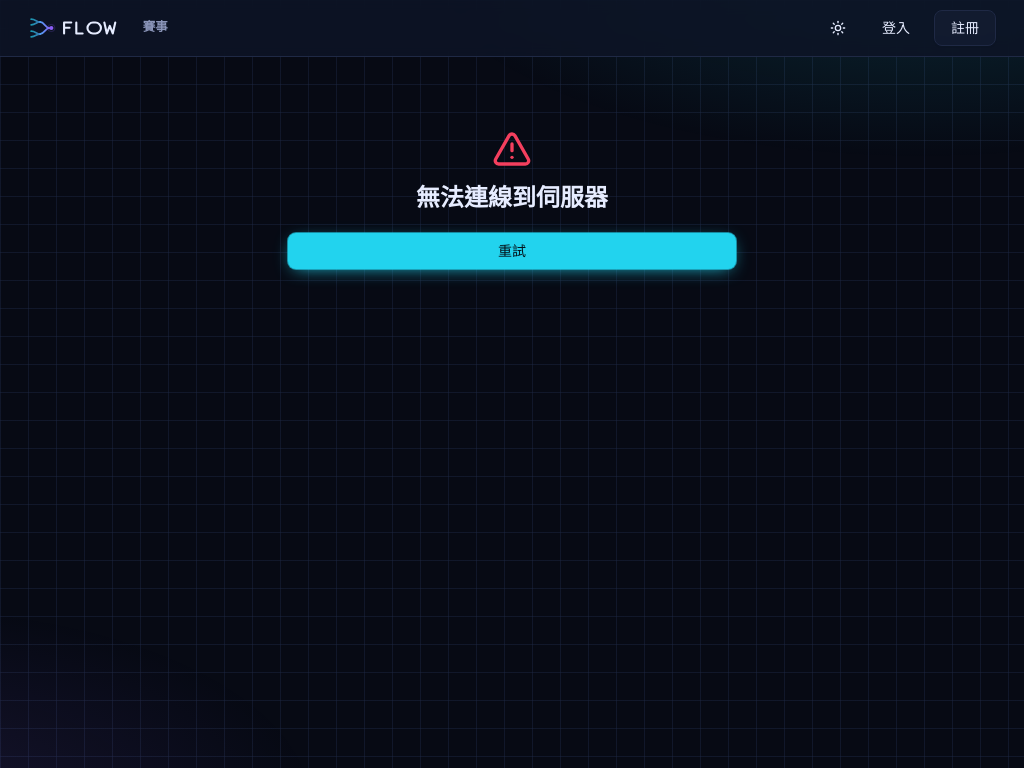
S7 Email 驗證頁 › 連線失敗或伺服器錯誤：顯示錯誤訊息與「重試」，不說連結已失效
Expected: the heading "無法連線到伺服器" is shown, [416, 181, 608, 213]
Click the button "重試" at [512, 251], box [288, 233, 736, 269]
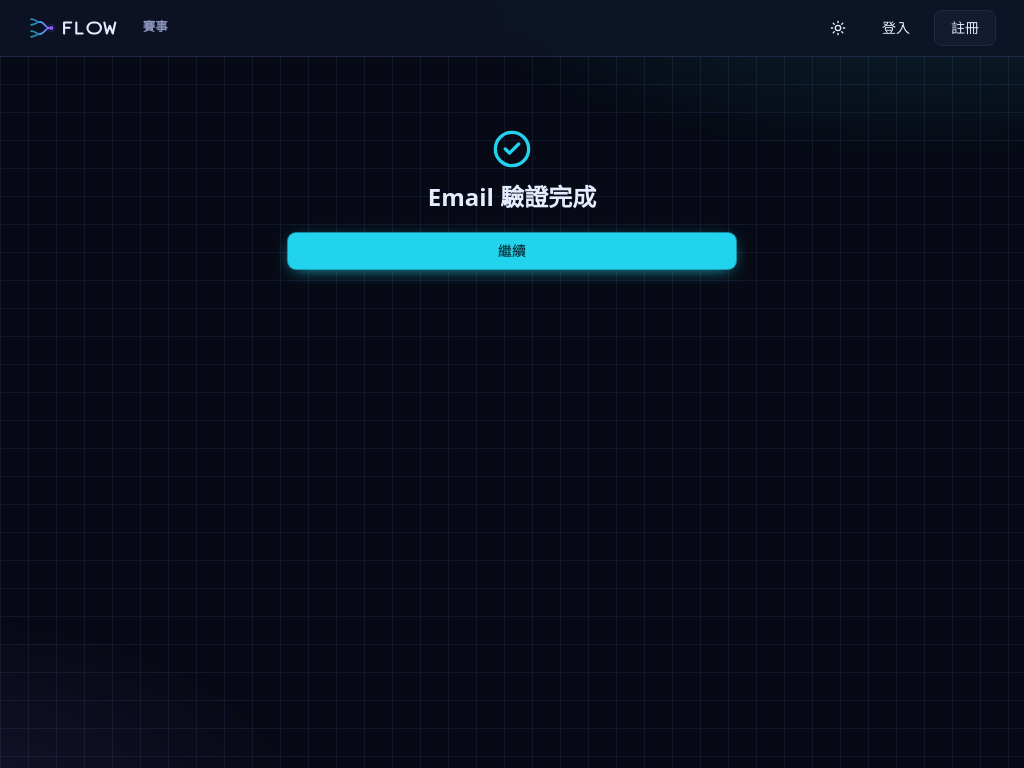
Result: the heading "Email 驗證完成" is shown at [428, 181, 596, 213]
